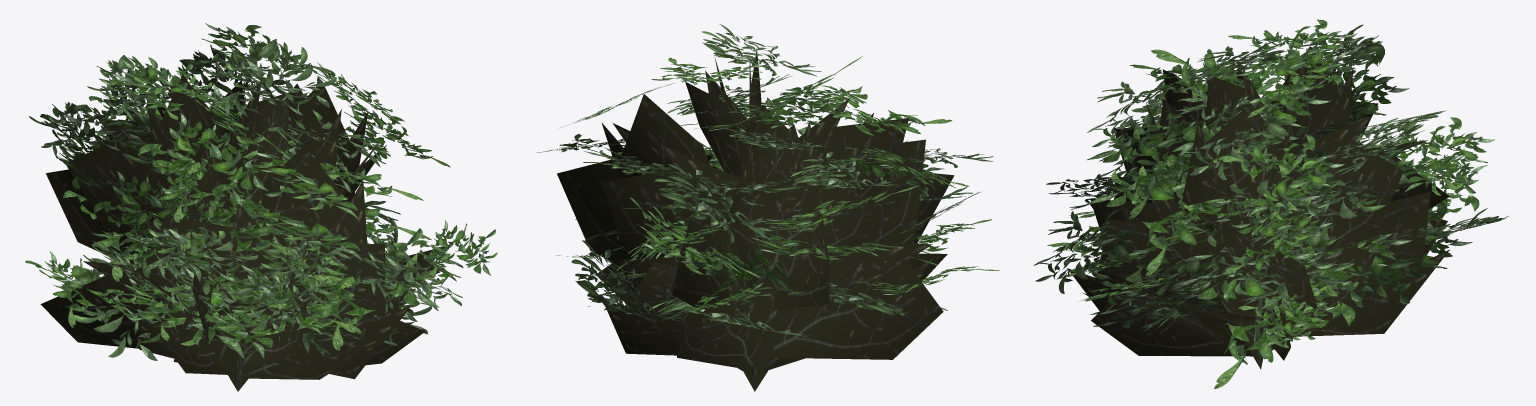
File: Preset_Plant_AzeleaA.fbx
The picture shows the model from 3 angles, left to right: view 1: azimuth 30°, elevation 25°; view 2: azimuth 150°, elevation 25°; view 3: azimuth 270°, elevation 25°; orthographic projection. The views are drawn at different scales.
Parts seen in each view (by area): view 1: Branch, LeafA, LeafB; view 2: Branch, LeafA, LeafB; view 3: Branch, LeafA, LeafB.
Boxes of the visible parts, bbox=[...] form: Branch: bbox=[40, 67, 453, 391]; LeafA: bbox=[25, 23, 497, 358]; LeafB: bbox=[29, 39, 463, 360]; Branch: bbox=[557, 48, 954, 391]; LeafA: bbox=[536, 56, 999, 320]; LeafB: bbox=[571, 24, 993, 337]; Branch: bbox=[1067, 47, 1449, 369]; LeafA: bbox=[1047, 19, 1494, 388]; LeafB: bbox=[1033, 24, 1508, 331].
Bounding box in the file's own units: 312 × 313 × 234.
3 materials, 3 textured.
